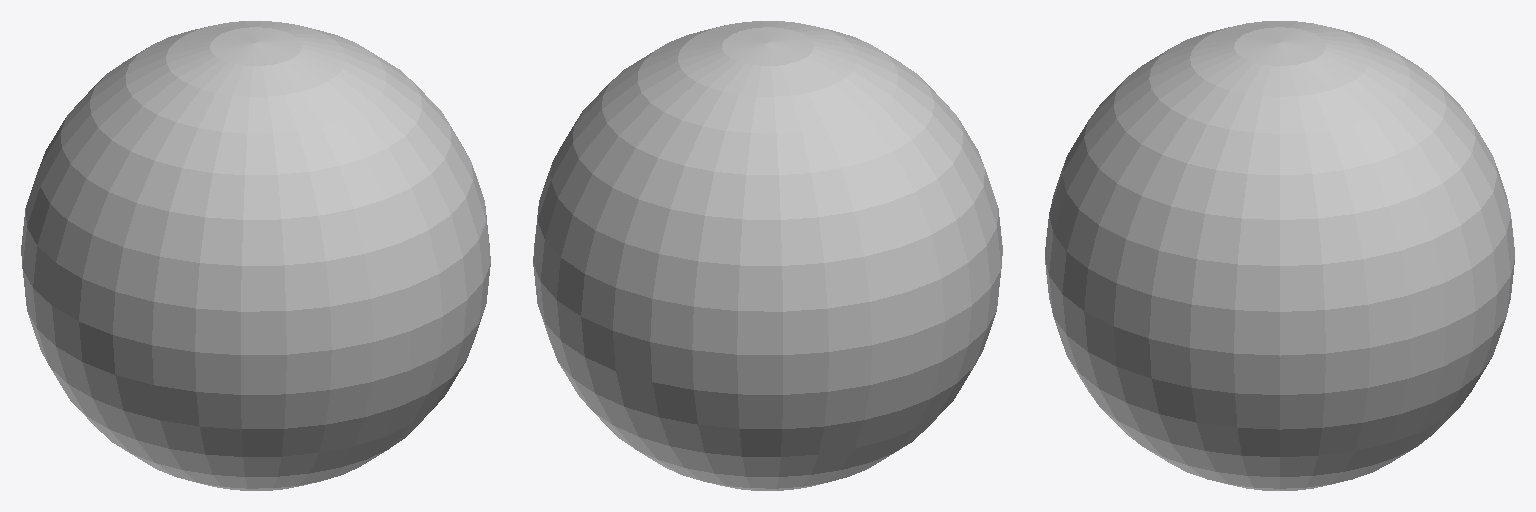
Rendered from Bomb.obj.
3 renders of one model, left to right at view 1: azimuth 30°, elevation 25°; view 2: azimuth 150°, elevation 25°; view 3: azimuth 270°, elevation 25°, orthographic.
Parts seen in each view (by area): view 1: Sphere; view 2: Sphere; view 3: Sphere.
Part boxes in pixels (x1,y1,x2,y2): Sphere: (21,21,490,490); Sphere: (533,21,1002,490); Sphere: (1045,21,1514,490).
Bounding box in the file's own units: 1.5 × 1.5 × 1.5.